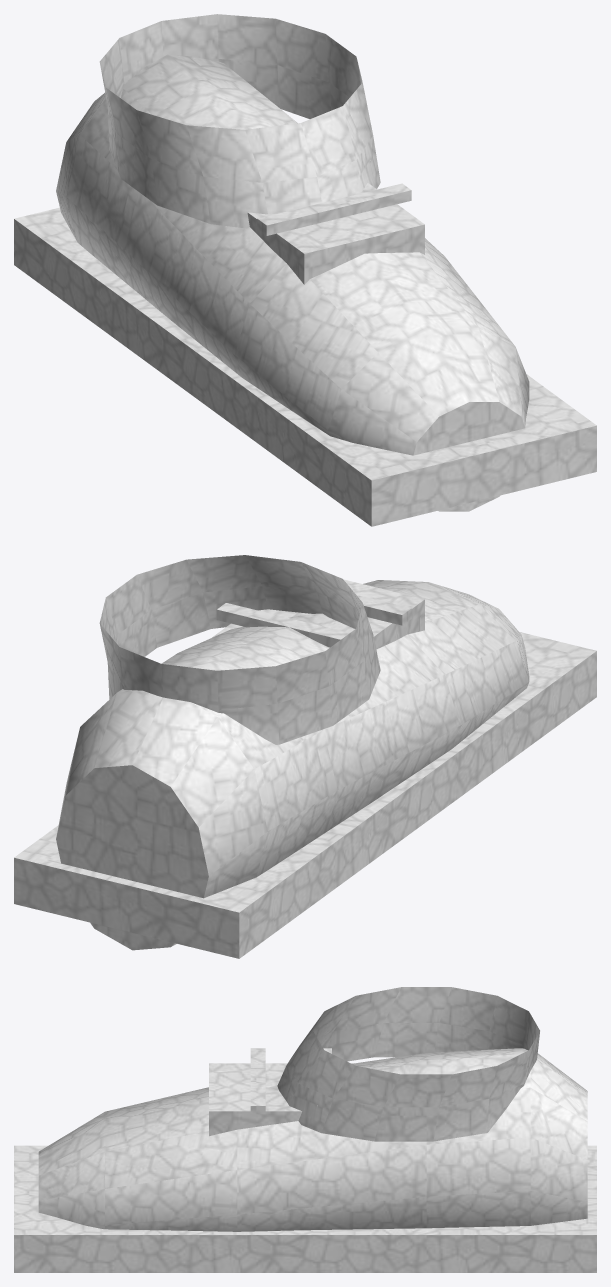
The model's file is shoes_sneakers_l.glb.
The picture shows the model from 3 angles, top to bottom: view 1: azimuth 30°, elevation 25°; view 2: azimuth 150°, elevation 25°; view 3: azimuth 270°, elevation 25°; orthographic projection. The views are drawn at different scales.
Visible parts, largest first — view 1: shoes_sneakers_l; view 2: shoes_sneakers_l; view 3: shoes_sneakers_l.
Part boxes in pixels (x1,y1,x2,y2): shoes_sneakers_l: [14, 14, 596, 526]; shoes_sneakers_l: [14, 555, 596, 958]; shoes_sneakers_l: [14, 987, 596, 1272].
Size of the model in its own units: 0.112 by 0.126 by 0.308.
1 material, 1 textured.
